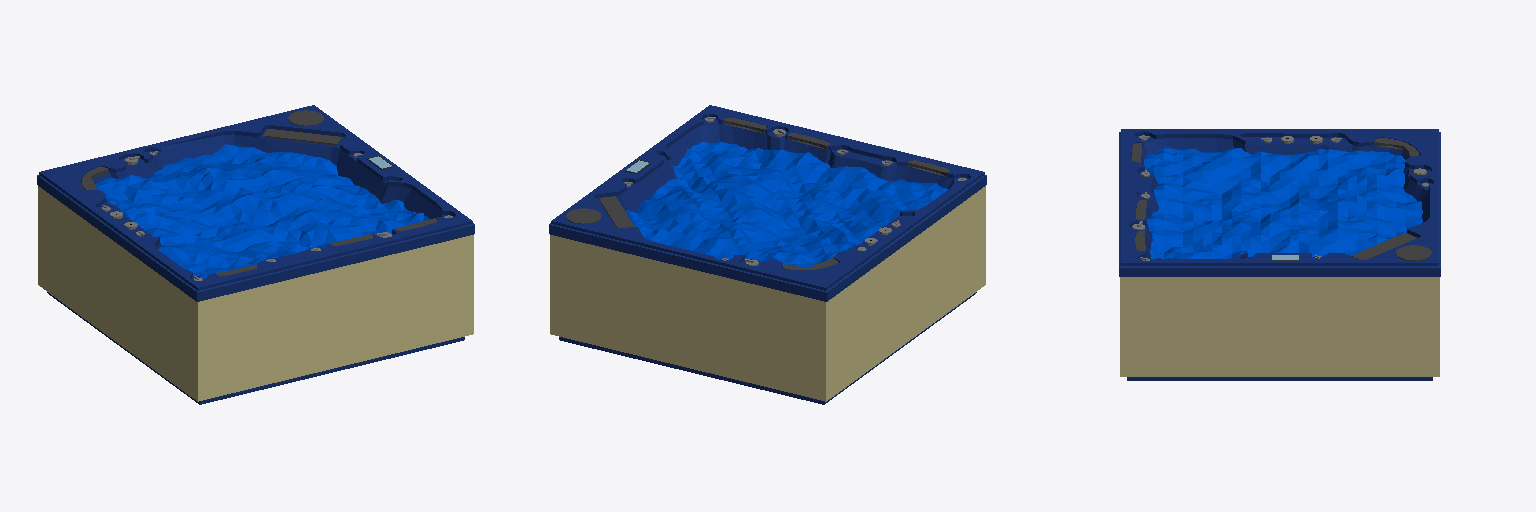
File: jacuzzi.obj
3 views of the same model, side by side, from view 1: azimuth 30°, elevation 25°; view 2: azimuth 150°, elevation 25°; view 3: azimuth 270°, elevation 25° (orthographic).
Visible parts, largest first — view 1: Cube.006, Plane.001, Cube.001, Cube; view 2: Cube.006, Plane.001, Cube.001, Cube.004, Cube; view 3: Cube.006, Plane.001, Cube.001, Cube.
Boxes of the visible parts, box(x1,y1,x2,y2) form: Cube.006: box(38, 186, 473, 401); Plane.001: box(95, 144, 429, 278); Cube.001: box(37, 105, 474, 404); Cube: box(263, 129, 341, 145); Cube.006: box(550, 186, 985, 401); Plane.001: box(626, 142, 947, 266); Cube.001: box(549, 105, 986, 404); Cube.004: box(723, 117, 829, 149); Cube: box(599, 196, 634, 227); Cube.006: box(1120, 277, 1439, 376); Plane.001: box(1144, 148, 1422, 259); Cube.001: box(1119, 129, 1440, 380); Cube: box(1352, 233, 1416, 259).
Size of the model in its own units: 22.8 by 9.48 by 22.8.